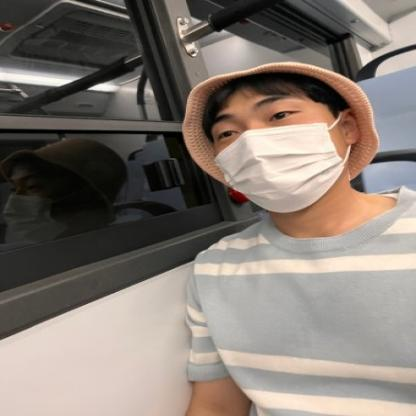hat: (172, 59, 386, 201)
